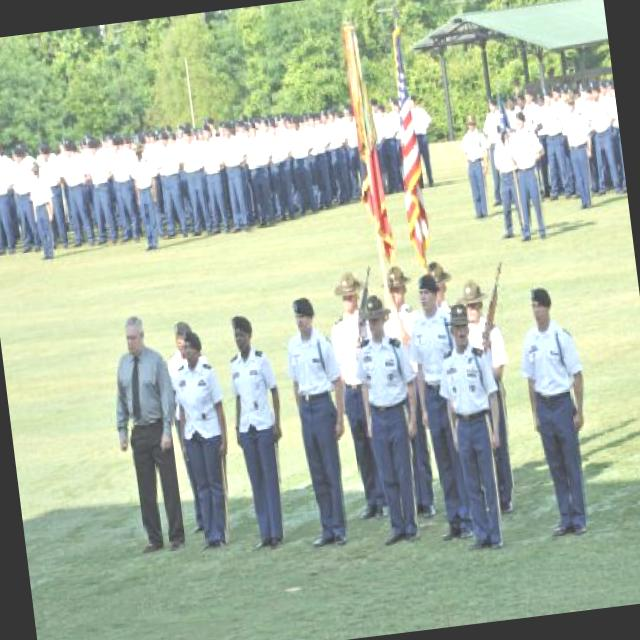Person: (100, 252, 532, 603), (0, 93, 444, 270), (452, 74, 632, 250), (511, 281, 604, 538)
